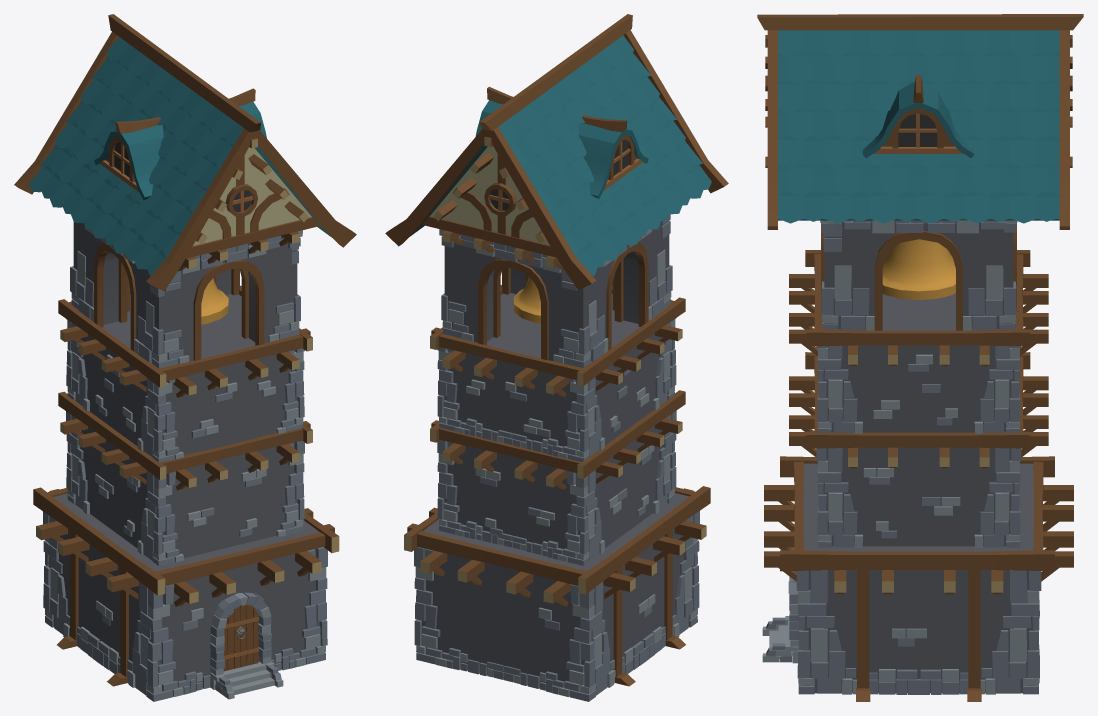
Rendered from Bell_Tower.glb.
3 renders of one model, left to right at view 1: azimuth 30°, elevation 25°; view 2: azimuth 150°, elevation 25°; view 3: azimuth 270°, elevation 25°, orthographic. The views are drawn at different scales.
Parts seen in each view (by area): view 1: Bell_Tower; view 2: Bell_Tower; view 3: Bell_Tower.
Boxes of the visible parts, x1=… form: Bell_Tower: x1=14, y1=14, x2=356, y2=701; Bell_Tower: x1=385, y1=14, x2=728, y2=701; Bell_Tower: x1=757, y1=14, x2=1083, y2=701.
Size of the model in its own units: 1.94 by 4.76 by 2.23.
